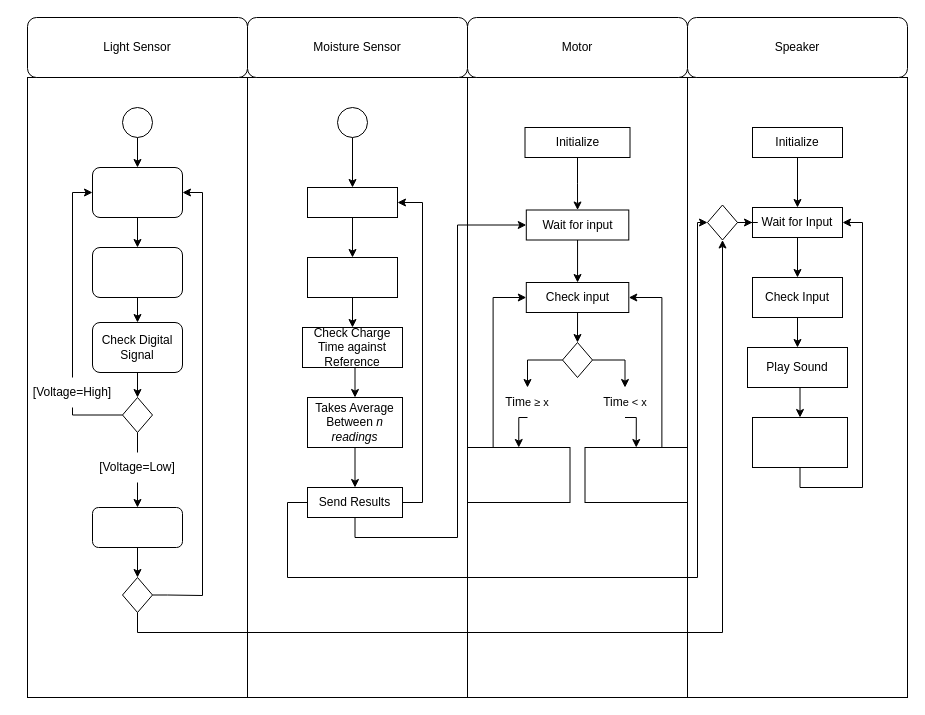
Some shapes in this 925 by 715 pixel diagram are drawn without their labels. Each missing label, with the centre of its shape:
"Analog to Digital Conversion" belongs at point 137,272.
"Close valve (rotate motor anti-clockwise)" belongs at point 636,474.
"Get Transistor Signal" belongs at point 137,192.
"Open valve (rotate motor clockwise)" belongs at point 518,474.
"Send Low Light Signal" belongs at point 137,527.
"Sensor Reset" belongs at point 352,202.
"Stop Sound" belongs at point 800,442.
"Track Charge Time" belongs at point 352,277.
